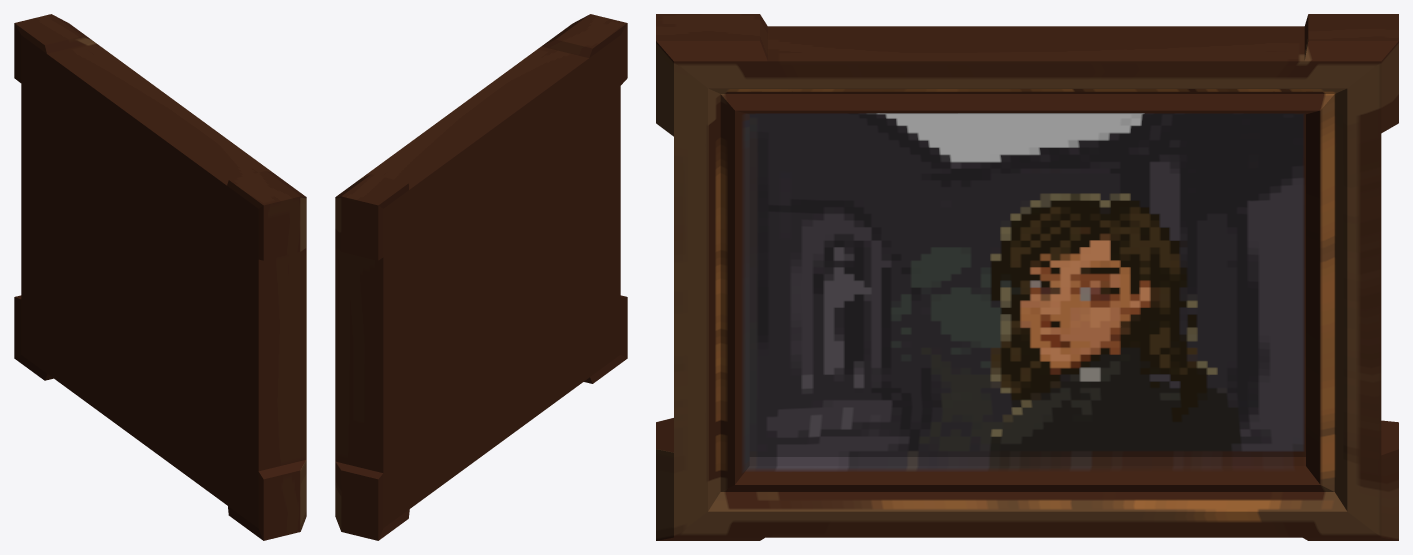
File: quadro_chique3.glb
The picture shows the model from 3 angles, left to right: view 1: azimuth 30°, elevation 25°; view 2: azimuth 150°, elevation 25°; view 3: azimuth 270°, elevation 25°; orthographic projection. The views are drawn at different scales.
Visible parts, largest first — view 1: Quadro_Chique; view 2: Quadro_Chique; view 3: Quadro_Chique.
Part boxes in pixels (x1,y1,x2,y2): Quadro_Chique: [14, 14, 306, 540]; Quadro_Chique: [335, 14, 627, 540]; Quadro_Chique: [656, 14, 1398, 540].
Bounding box in the file's own units: 0.5708 × 3.68 × 4.96.
Materials: 1 (1 with a texture image).
